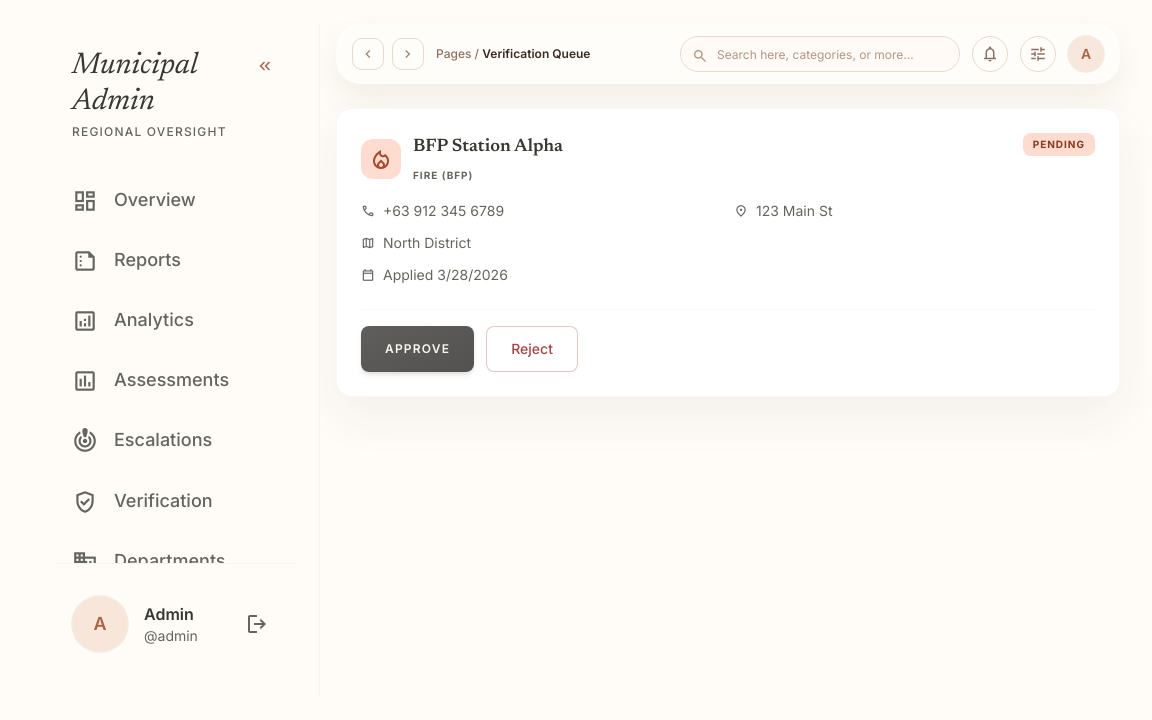
Test: MunicipalityVerificationPage › shows rejection reason input when reject is clicked
Expected: the heading "BFP Station Alpha" is shown, [413, 133, 563, 161]
Click the button "Reject": (532, 349) [486, 326, 578, 372]
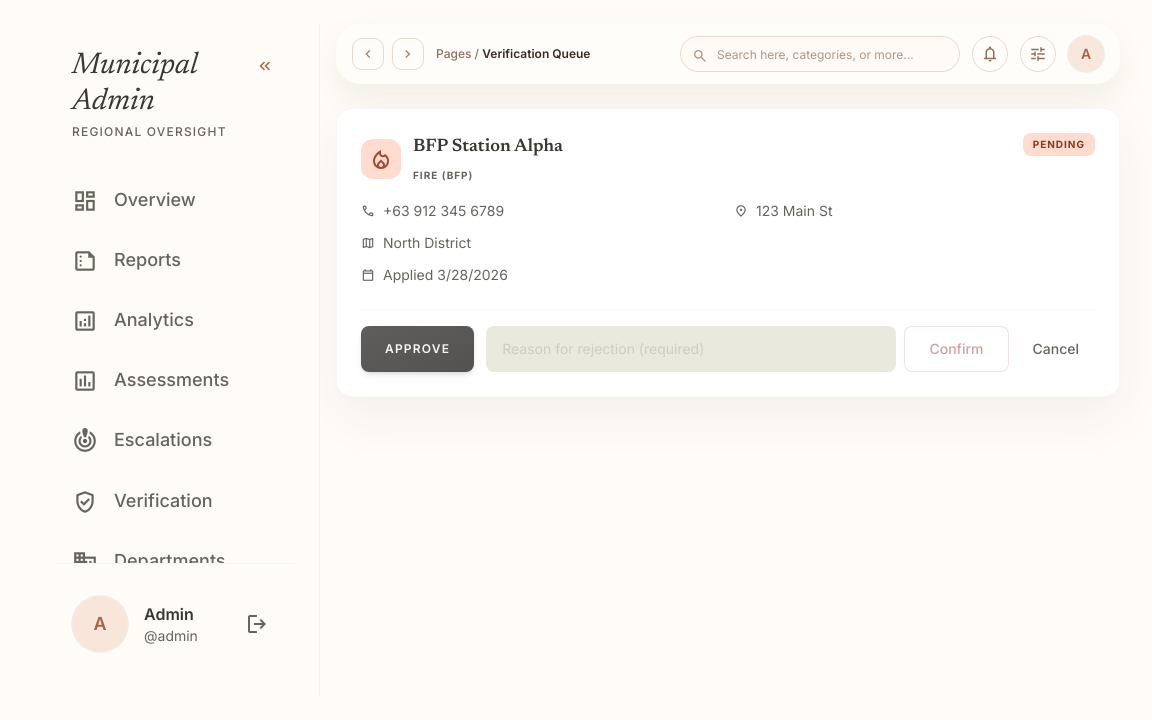
Now the field with placeholder "Reason for rejection (required)" is shown, box [486, 326, 896, 372]
